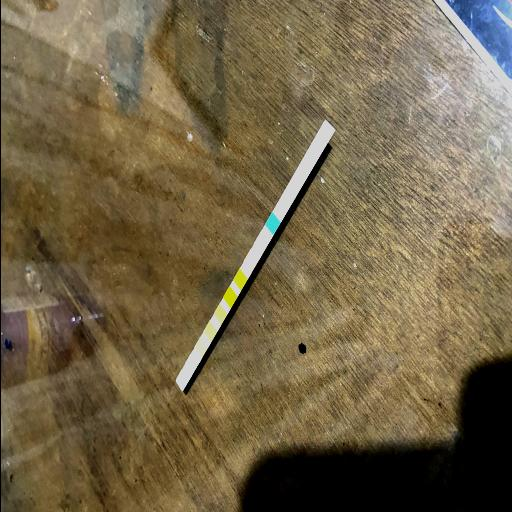Bilirubin: (258, 236, 264, 248)
Blood: (226, 291, 232, 303)
Glucose: (268, 218, 276, 228)
Ketone: (247, 254, 253, 267)
Leukocytes: (178, 374, 184, 386)
Nitrite: (188, 358, 194, 368)
Protein: (206, 325, 212, 337)
SpGravity: (236, 272, 242, 286)
Urobilinogen: (197, 342, 203, 354)
pH: (216, 308, 222, 320)
strip: (175, 119, 334, 391)
